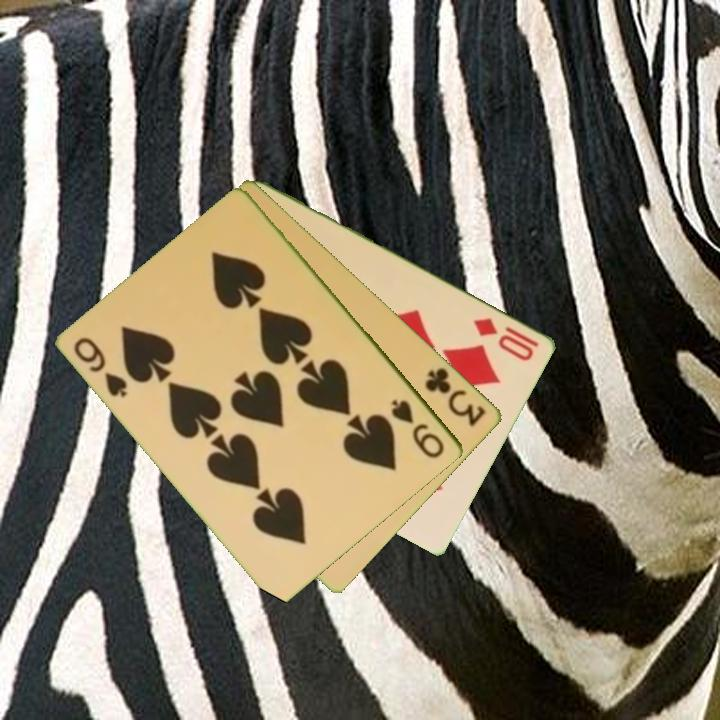10d: (470, 313, 542, 364)
3c: (421, 364, 489, 430)
9s: (70, 333, 131, 401), (388, 395, 448, 462)
